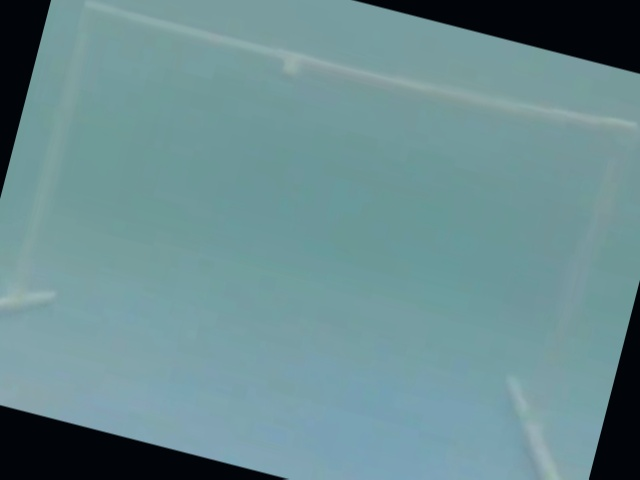gate: (9, 17, 628, 480)
